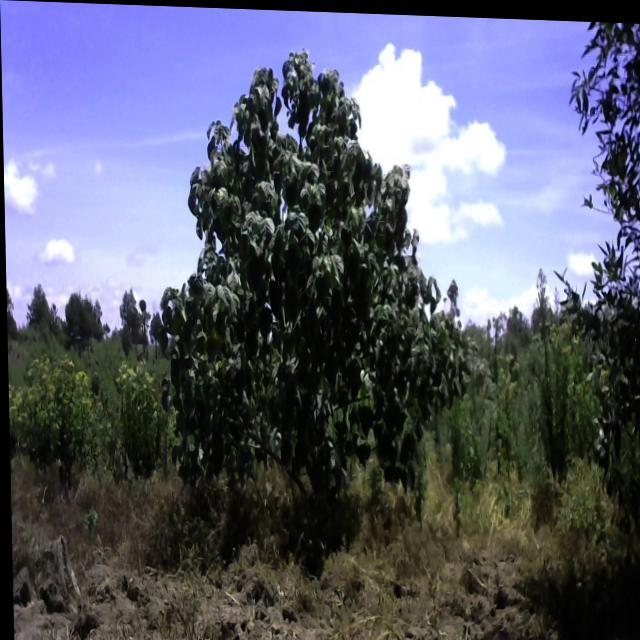Vitex keniensis: (165, 42, 468, 595)
cedrus: (62, 293, 102, 346), (27, 283, 53, 335)
other: (552, 19, 640, 497), (8, 342, 96, 489)
